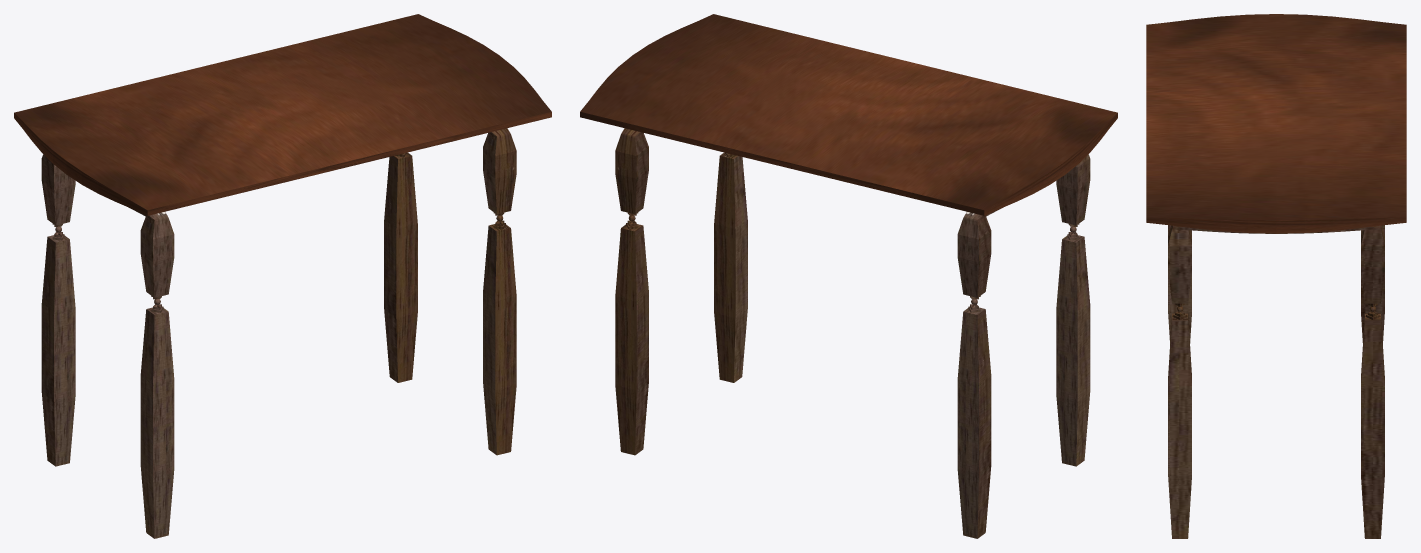
File: thelittletable6.glb
3 views of the same model, side by side, from view 1: azimuth 30°, elevation 25°; view 2: azimuth 150°, elevation 25°; view 3: azimuth 270°, elevation 25° (orthographic). The views are drawn at different scales.
Parts seen in each view (by area): view 1: EntranceTable; view 2: EntranceTable; view 3: EntranceTable.
Boxes of the visible parts, x1,y1,x2,y2 form: EntranceTable: (14, 14, 551, 538); EntranceTable: (580, 14, 1117, 538); EntranceTable: (1146, 14, 1406, 538).
Bounding box in the file's own units: 1.52 × 1.16 × 0.8105.
2 materials, 2 textured.
